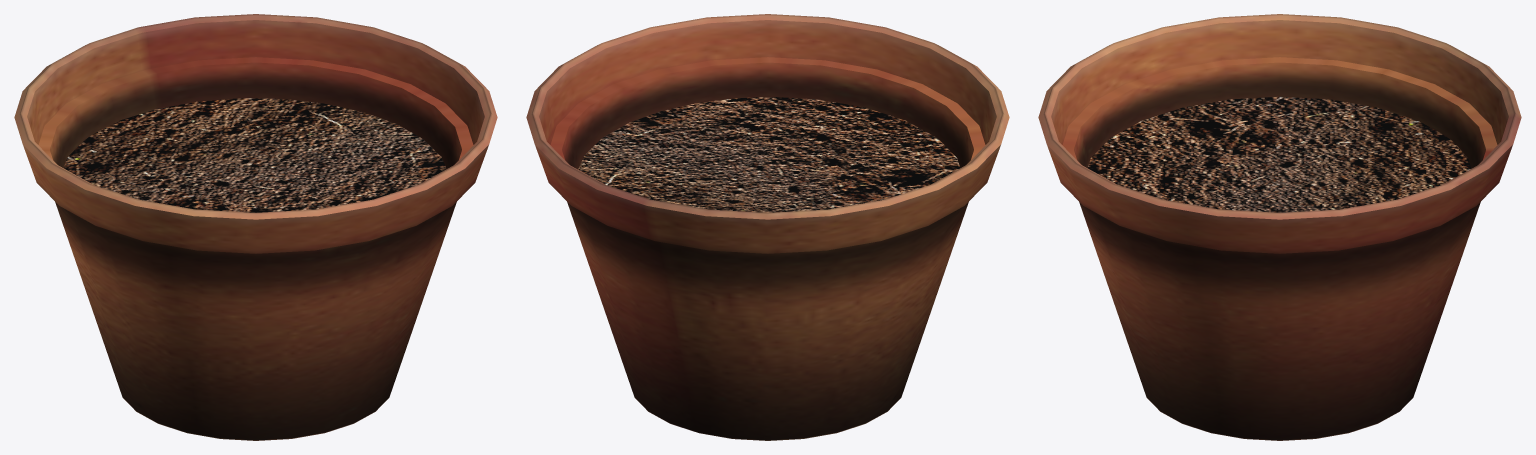
Rendered from clayPot.fbx.
3 views of the same model, side by side, from view 1: azimuth 30°, elevation 25°; view 2: azimuth 150°, elevation 25°; view 3: azimuth 270°, elevation 25° (orthographic).
Parts seen in each view (by area): view 1: Line001, Circle001; view 2: Line001, Circle001; view 3: Line001, Circle001.
Part boxes in pixels (bbox=[...]): Line001: bbox=[14, 14, 497, 440]; Circle001: bbox=[64, 98, 446, 212]; Line001: bbox=[526, 14, 1009, 440]; Circle001: bbox=[578, 97, 959, 212]; Line001: bbox=[1038, 14, 1521, 440]; Circle001: bbox=[1088, 96, 1471, 212].
Bounding box in the file's own units: 41.45 × 25.48 × 41.45.
2 materials, 2 textured.
